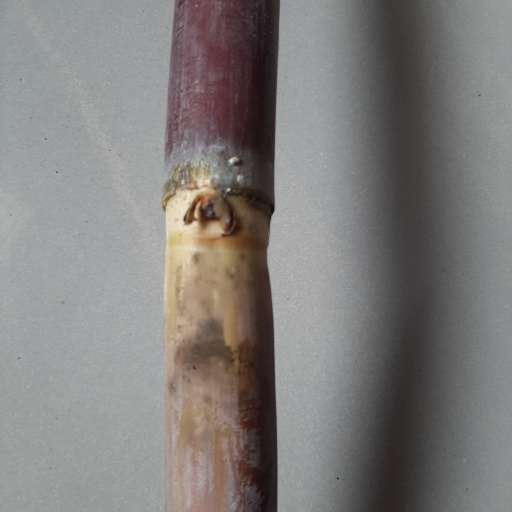Damage_Bud: (181, 193, 234, 238)
